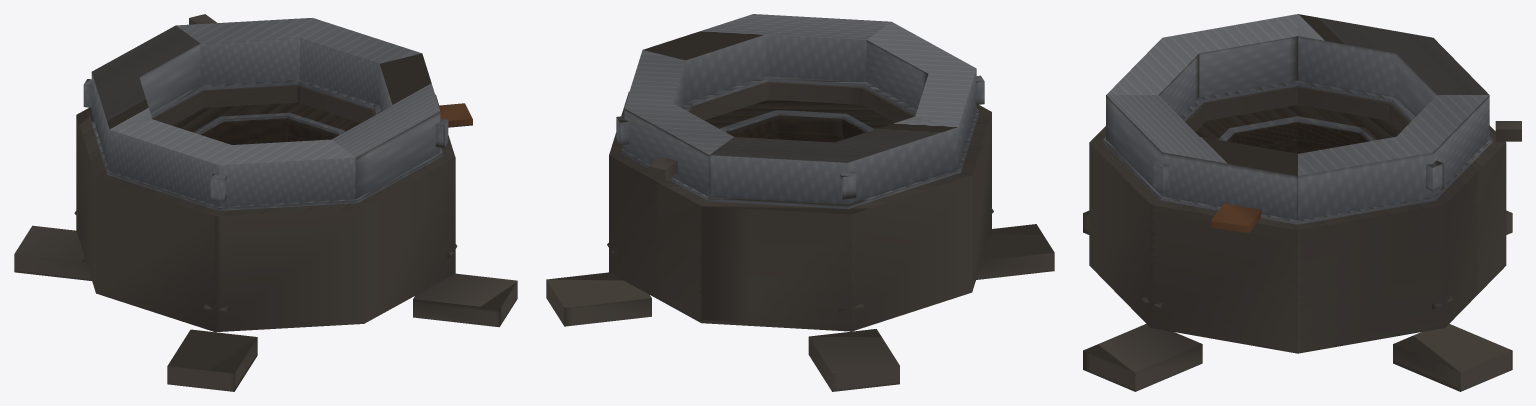
File: massline_core_lod2.glb
3 views of the same model, side by side, from view 1: azimuth 30°, elevation 25°; view 2: azimuth 150°, elevation 25°; view 3: azimuth 270°, elevation 25° (orthographic). The views are drawn at different scales.
Visible parts, largest first — view 1: LOD2_massline_core, LOD2_massline_core_spin; view 2: LOD2_massline_core, LOD2_massline_core_spin, LOD2_massline_core_lamp; view 3: LOD2_massline_core, LOD2_massline_core_spin, LOD2_massline_core_lamp.
Part boxes in pixels (<box>): LOD2_massline_core: <box>14,79,517,391</box>; LOD2_massline_core_spin: <box>83,18,448,206</box>; LOD2_massline_core: <box>546,76,1054,391</box>; LOD2_massline_core_spin: <box>616,14,984,204</box>; LOD2_massline_core_lamp: <box>648,157,677,181</box>; LOD2_massline_core: <box>1083,80,1512,391</box>; LOD2_massline_core_spin: <box>1106,14,1489,220</box>; LOD2_massline_core_lamp: <box>1495,121,1521,141</box>.
Size of the model in its own units: 1.81 by 0.955 by 1.84.
Materials: 1 (1 with a texture image).
